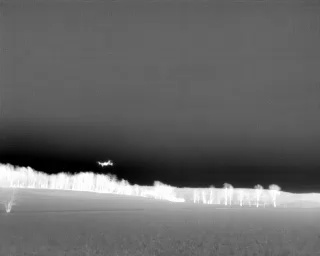DRONE: (94, 155, 118, 171)
